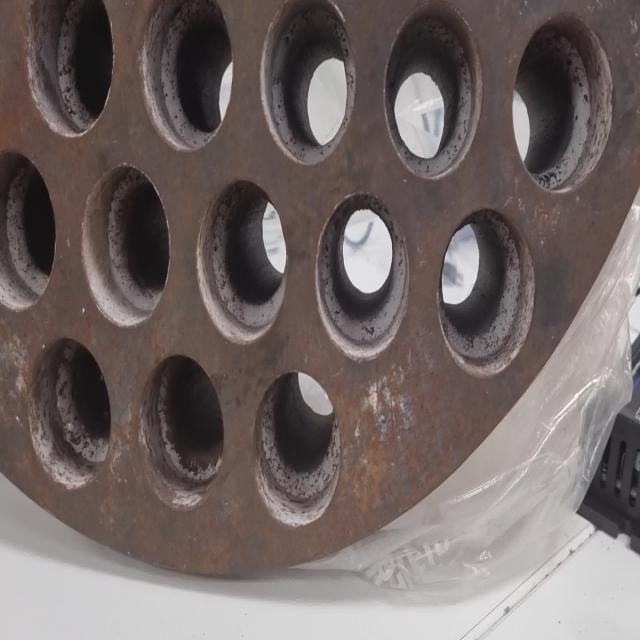Hole: (512, 12, 615, 194), (384, 2, 483, 180), (437, 206, 536, 377), (314, 191, 410, 361), (259, 0, 357, 166), (195, 178, 288, 345), (80, 162, 170, 328), (138, 1, 234, 153), (253, 370, 341, 530), (138, 354, 224, 511), (28, 336, 111, 490), (24, 0, 114, 138), (1, 150, 56, 312)
